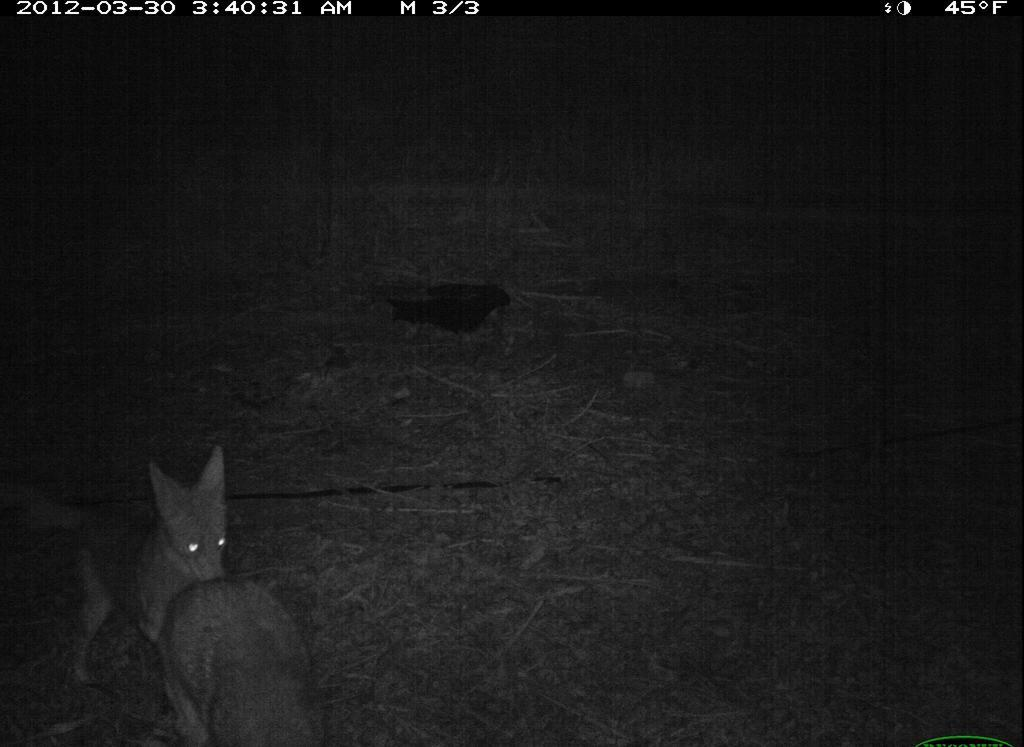coyote: (17, 419, 248, 693), (137, 560, 349, 738)
